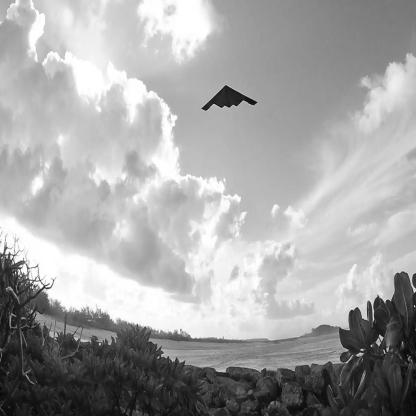B2: (202, 86, 259, 112)
